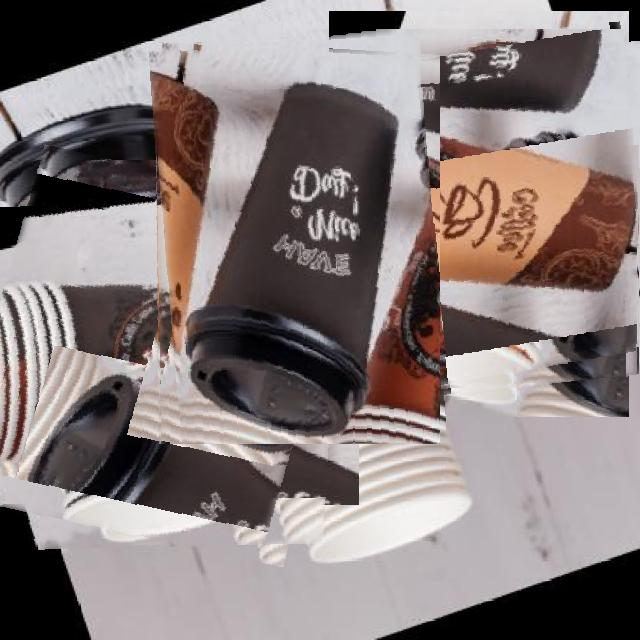non-biodegradable: (0, 160, 346, 551), (293, 29, 640, 399), (155, 38, 440, 444)
